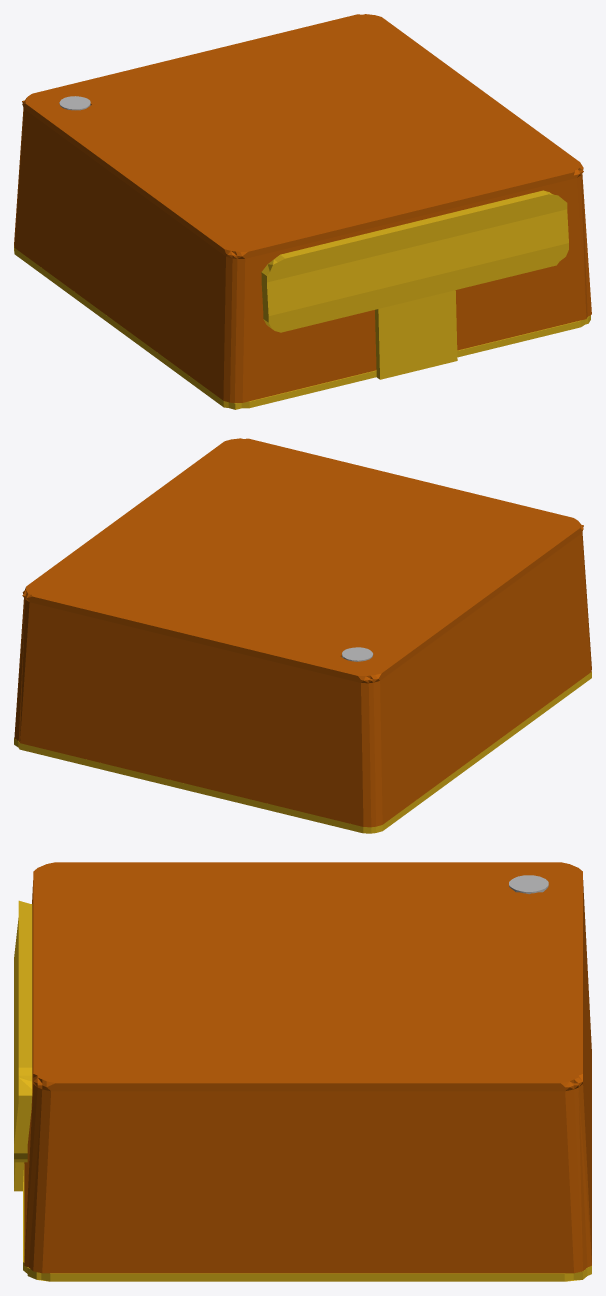
Rendered from thingy91x.glb.
3 renders of one model, top to bottom at view 1: azimuth 30°, elevation 25°; view 2: azimuth 150°, elevation 25°; view 3: azimuth 270°, elevation 25°, orthographic. The views are drawn at different scales.
Parts seen in each view (by area): view 1: Body1, Body2; view 2: Body1, Body2; view 3: Body1, Body2, Body3.
Boxes of the visible parts, x1,y1,x2,y2 form: Body1: (14,14,591,402); Body2: (14,190,590,409); Body1: (14,438,591,827); Body2: (14,672,591,833); Body1: (24,862,591,1273); Body2: (14,900,591,1281); Body3: (509,875,548,894).
Bounding box in the file's own units: 6.01 × 2.4 × 6.41.
